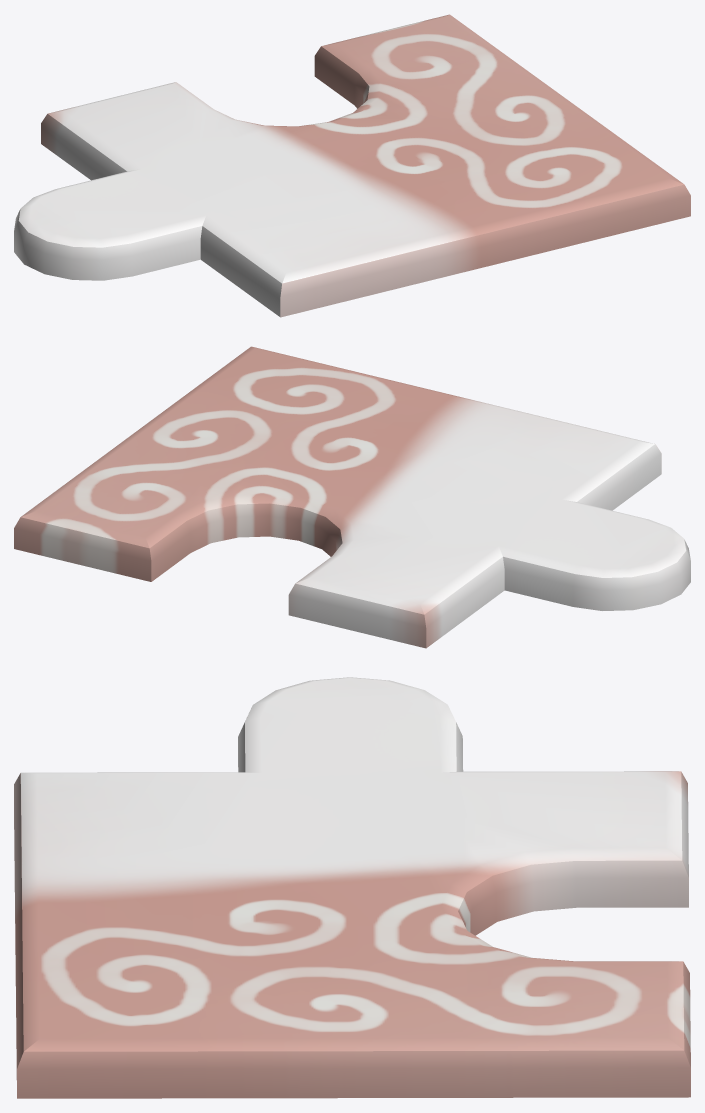
The model's file is puzzle9.fbx.
3 views of the same model, one above another, from view 1: azimuth 30°, elevation 25°; view 2: azimuth 150°, elevation 25°; view 3: azimuth 270°, elevation 25° (orthographic). The views are drawn at different scales.
Visible parts, largest first — view 1: polySurface3; view 2: polySurface3; view 3: polySurface3.
Boxes of the visible parts, left/top/right/bottom form: polySurface3: left=14, top=14, right=690, bottom=317; polySurface3: left=14, top=346, right=690, bottom=648; polySurface3: left=14, top=677, right=690, bottom=1098.
Size of the model in its own units: 1.34 by 0.0821 by 1.
